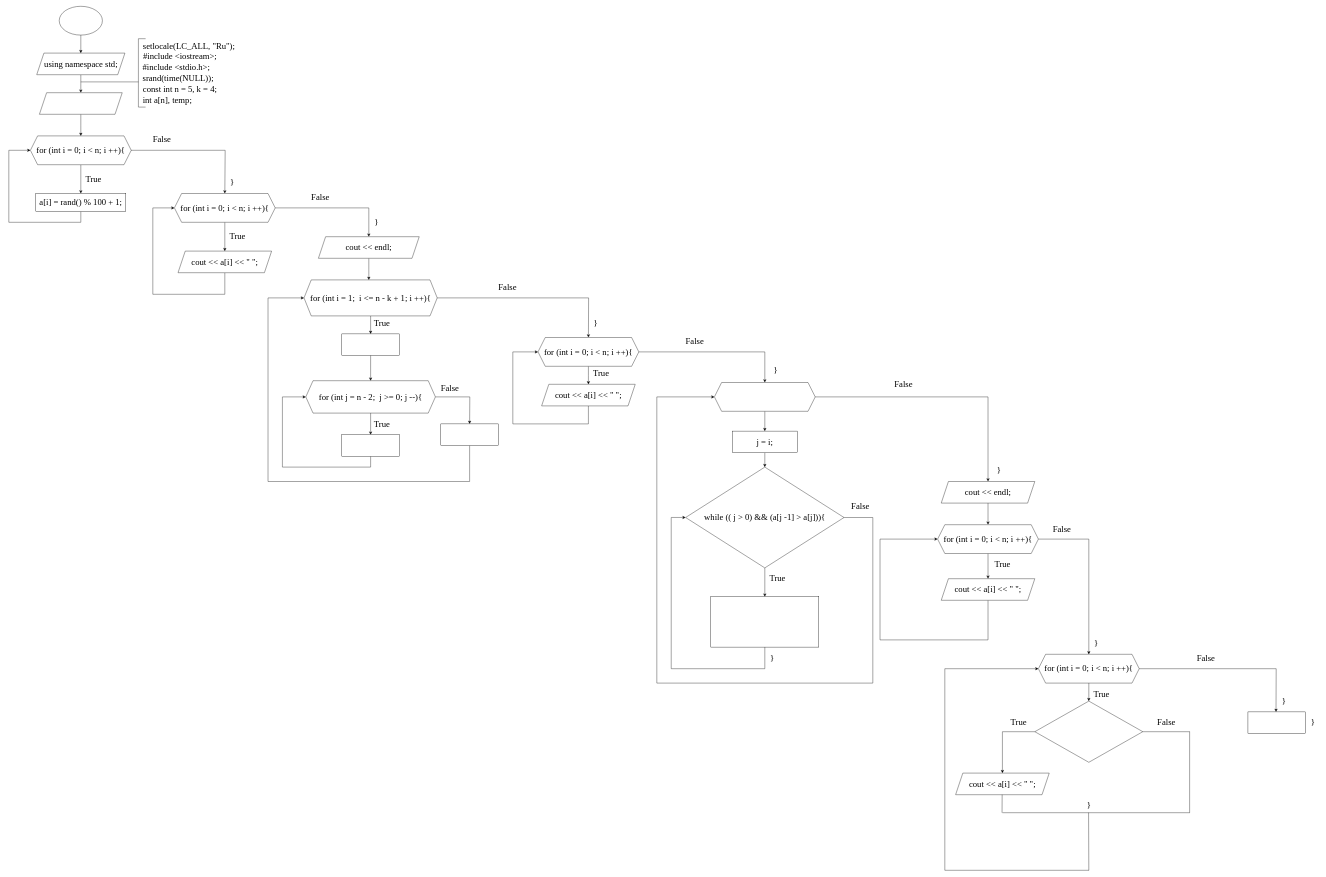
Some shapes in this 1326 by 877 pixel diagram are drawn without their labels. The shapes that lost their labels are listed below. From the top down, each one's centre as x and y in pixels, then its label:
point (80, 20): Начало
point (80, 103): int main(){
point (370, 345): temp = a[n -1];
point (764, 396): for (int i = 1; i < n; i ++){
point (370, 445): a[j + 1] = a[j];
point (469, 435): a[0] = temp;
point (764, 621): int tmp = a[i]; a[j] = a[j - 1]; a[j - 1] = tmp; j--;
point (1088, 731): if (a[i] % 2 != 0){
point (1277, 723): return 0;
